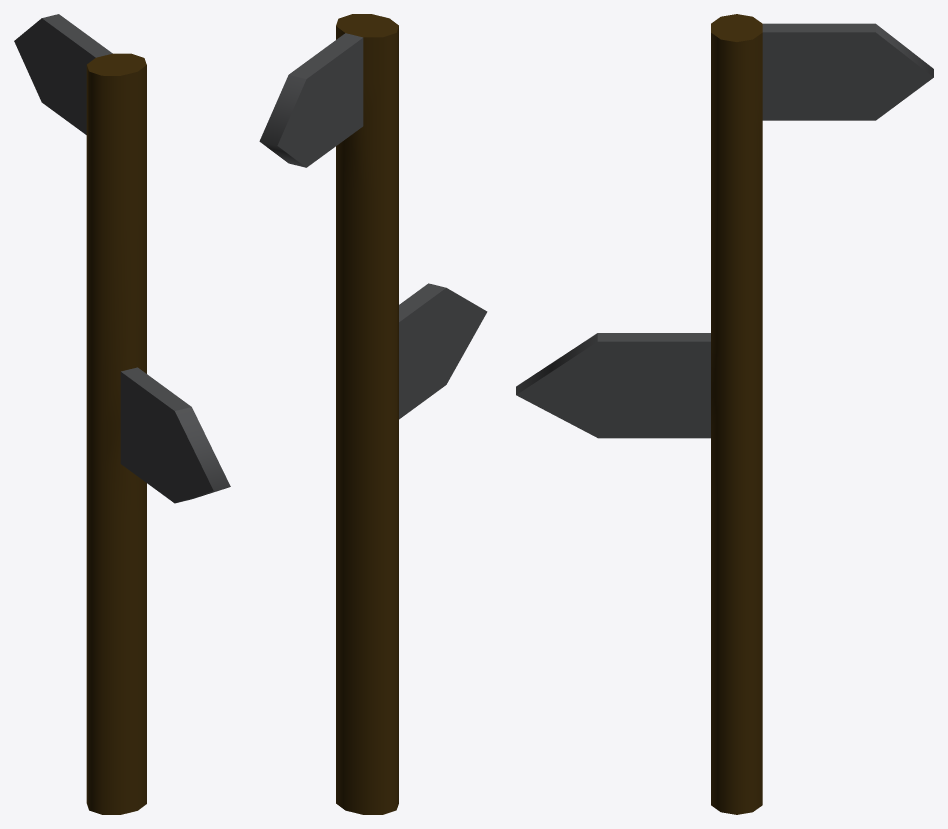
Rendered from Sign Textured.FBX.
The picture shows the model from 3 angles, left to right: view 1: azimuth 30°, elevation 25°; view 2: azimuth 150°, elevation 25°; view 3: azimuth 270°, elevation 25°; orthographic projection. The views are drawn at different scales.
Parts seen in each view (by area): view 1: Sign; view 2: Sign; view 3: Sign.
Part boxes in pixels (<box>): Sign: <box>14,14,230,814</box>; Sign: <box>259,14,487,814</box>; Sign: <box>516,14,933,814</box>.
Size of the model in its own units: 1.36 by 17.39 by 8.52.
2 materials, 2 textured.
